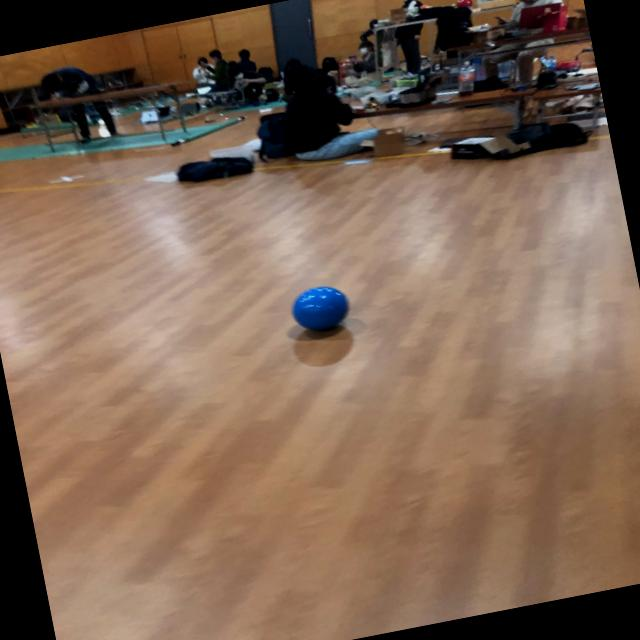blue_ball: (286, 274, 360, 336)
